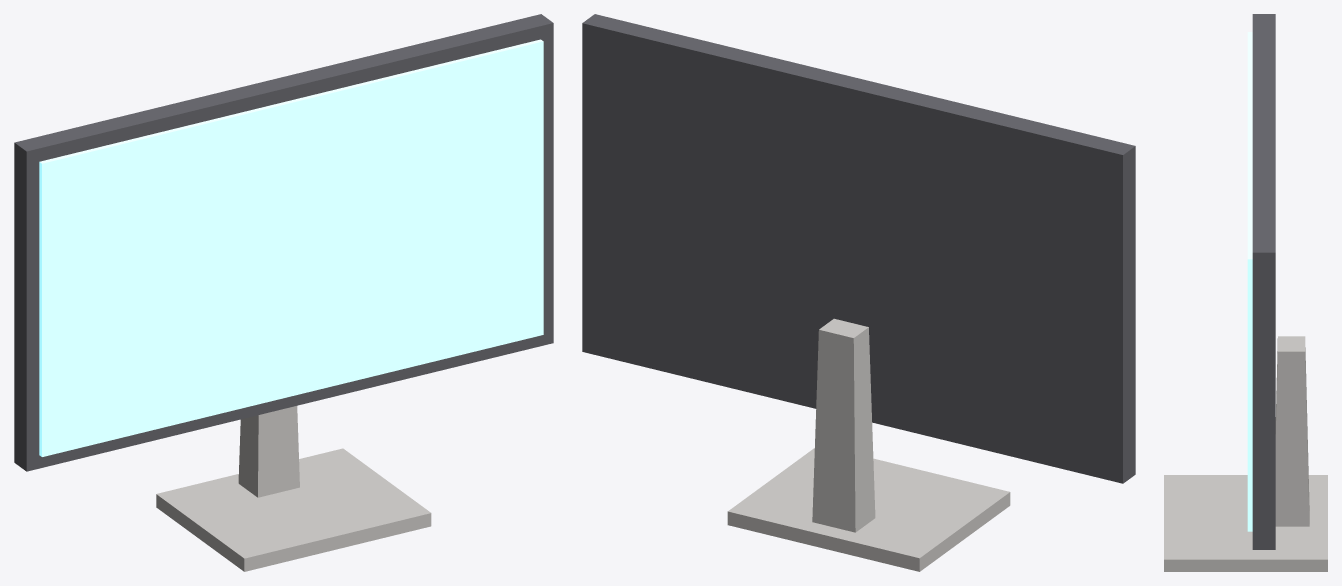
File: equipment_monitor_basic.glb
3 renders of one model, left to right at view 1: azimuth 30°, elevation 25°; view 2: azimuth 150°, elevation 25°; view 3: azimuth 270°, elevation 25°, orthographic. The views are drawn at different scales.
Parts seen in each view (by area): view 1: MonitorBasic; view 2: MonitorBasic; view 3: MonitorBasic.
Part boxes in pixels (x1,y1,x2,y2): MonitorBasic: [14, 14, 553, 571]; MonitorBasic: [582, 14, 1135, 571]; MonitorBasic: [1164, 14, 1327, 571].
Bounding box in the file's own units: 0.62 × 0.48 × 0.18.
